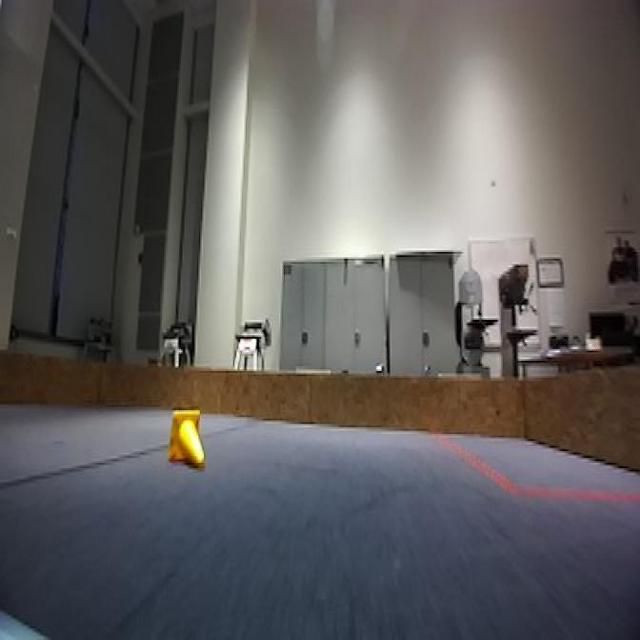frc_cone: (165, 404, 208, 472)
